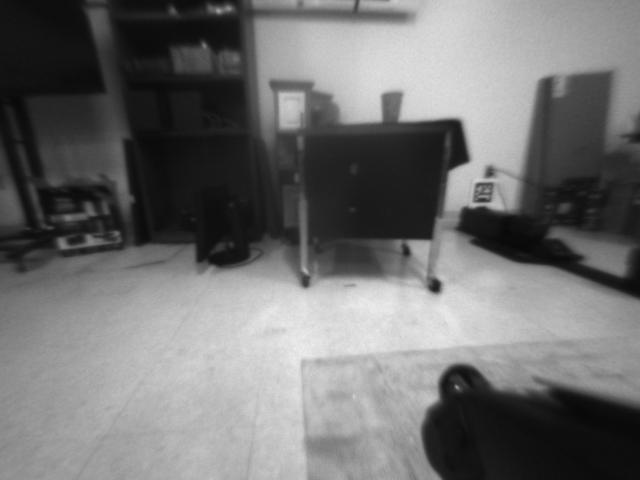coffee_cup: (378, 88, 405, 123)
